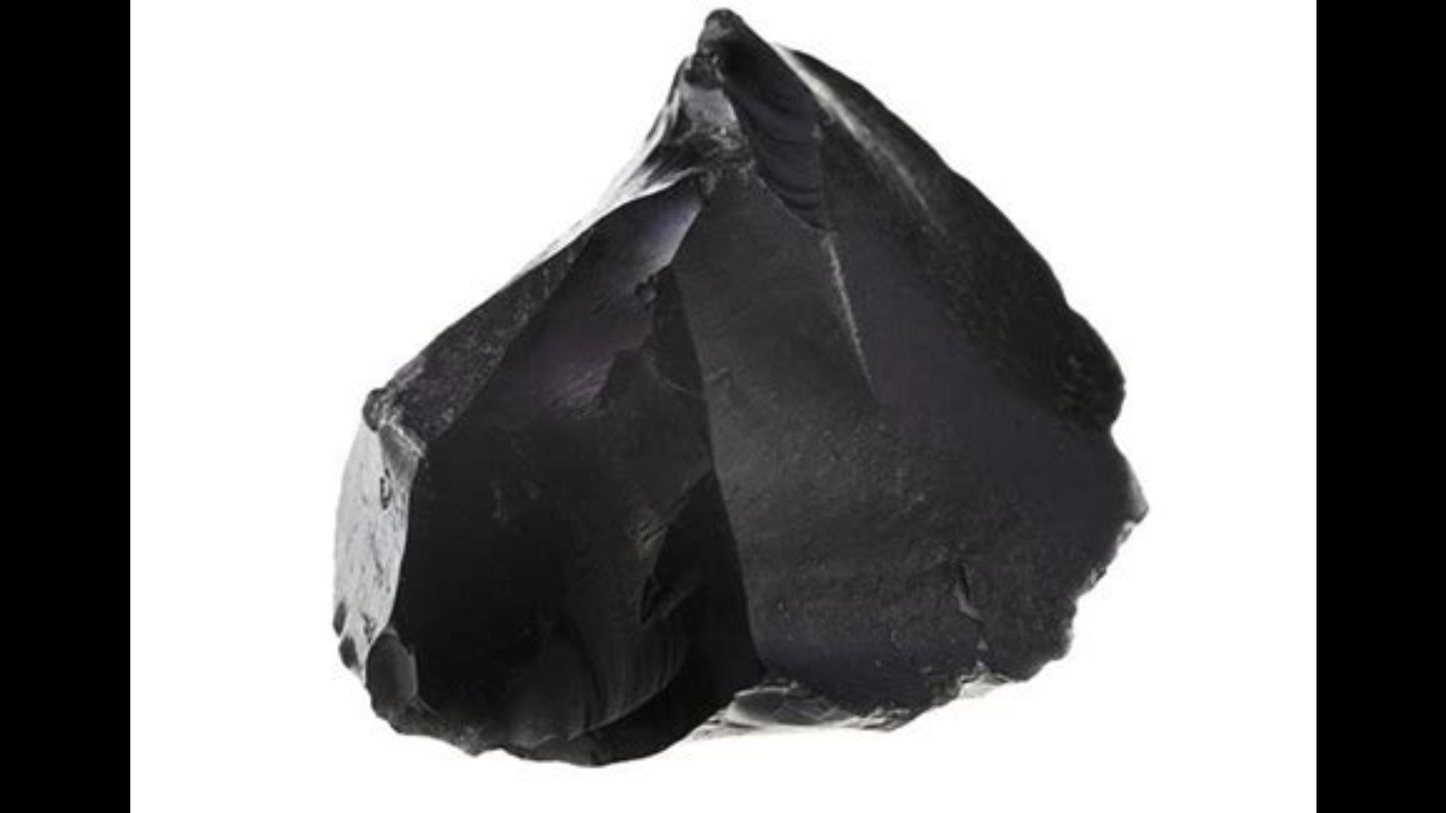rock: (337, 13, 1141, 763)
